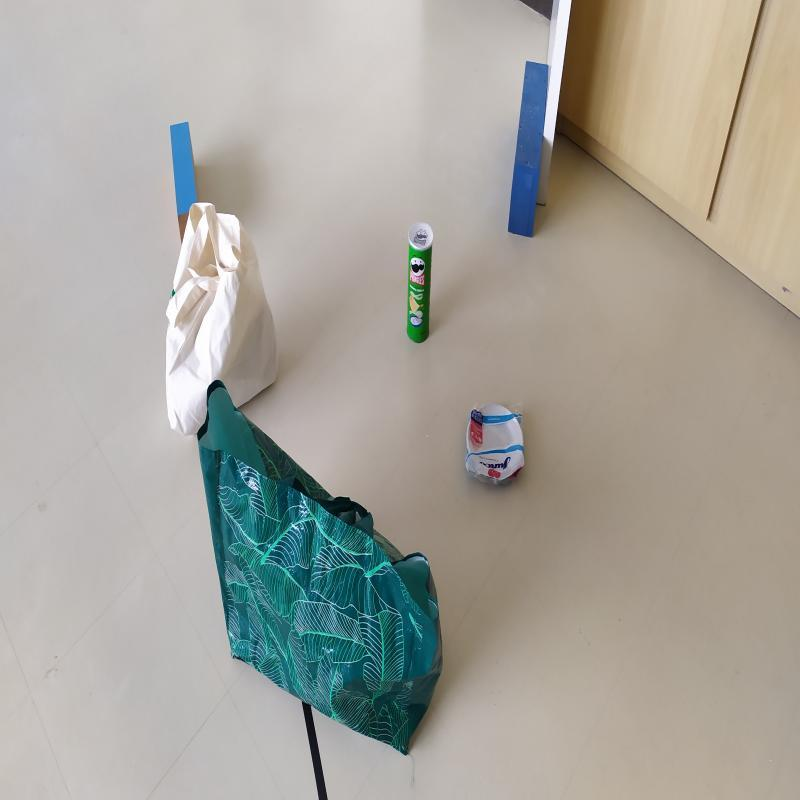Bag: (199, 385, 448, 760), (163, 198, 282, 442)
Plate: (465, 401, 524, 480)
Pringles: (408, 222, 436, 346)
